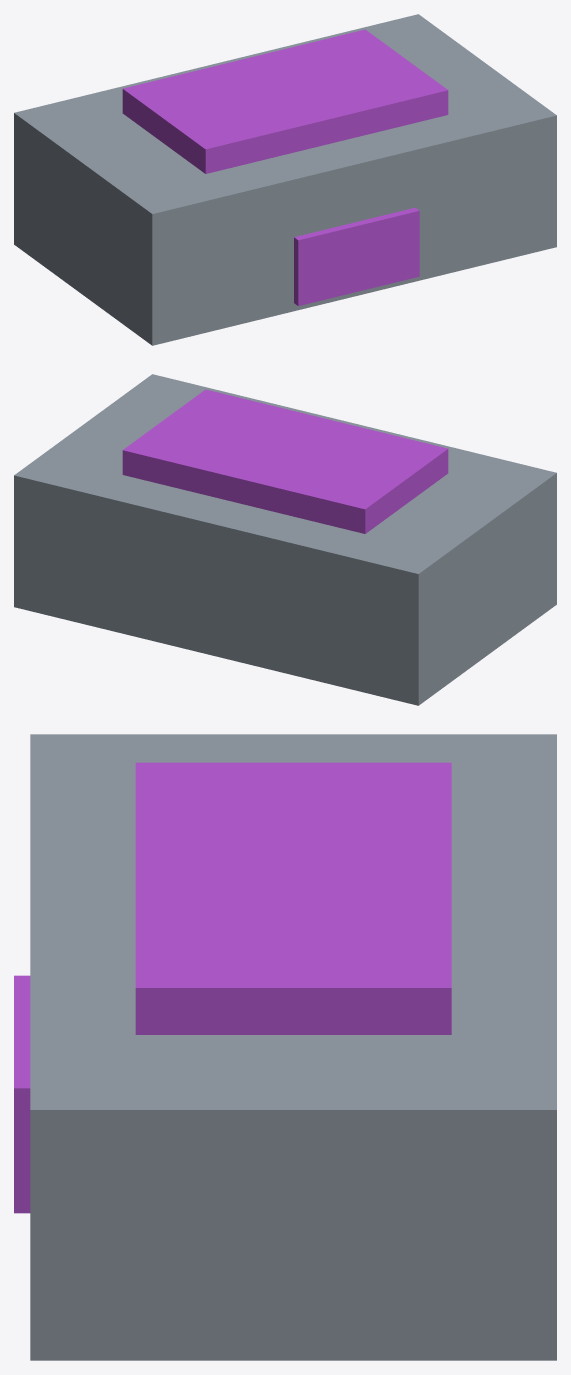
Rendered from CH_TimelineTank_LOD0.glb.
3 views of the same model, one above another, from view 1: azimuth 30°, elevation 25°; view 2: azimuth 150°, elevation 25°; view 3: azimuth 270°, elevation 25° (orthographic). The views are drawn at different scales.
Visible parts, largest first — view 1: EntranceGate; view 2: EntranceGate; view 3: EntranceGate.
Boxes of the visible parts, x1,y1,x2,y2 form: EntranceGate: [14, 14, 556, 345]; EntranceGate: [14, 374, 556, 705]; EntranceGate: [14, 734, 556, 1360].
Bounding box in the file's own units: 540 × 200 × 330.
